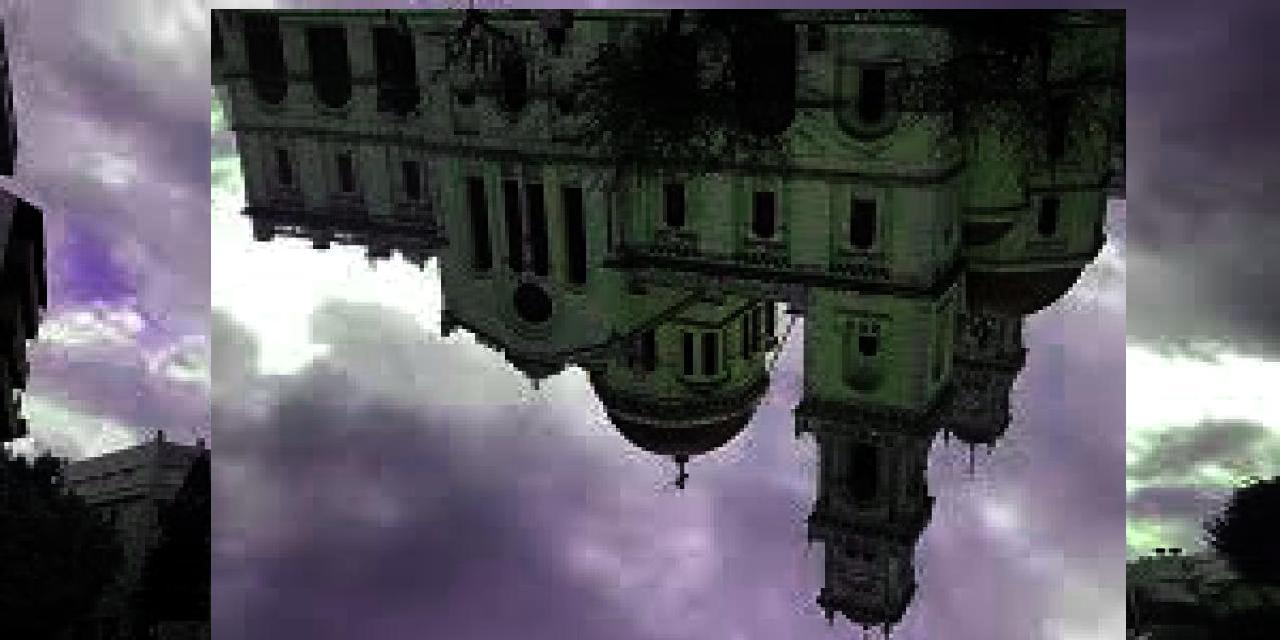Agios Minas: (212, 10, 1127, 640)
